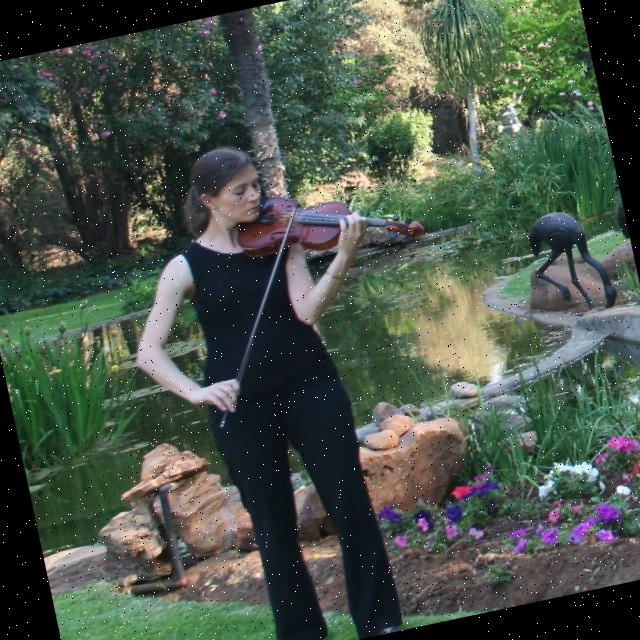violin: (226, 165, 428, 276)
